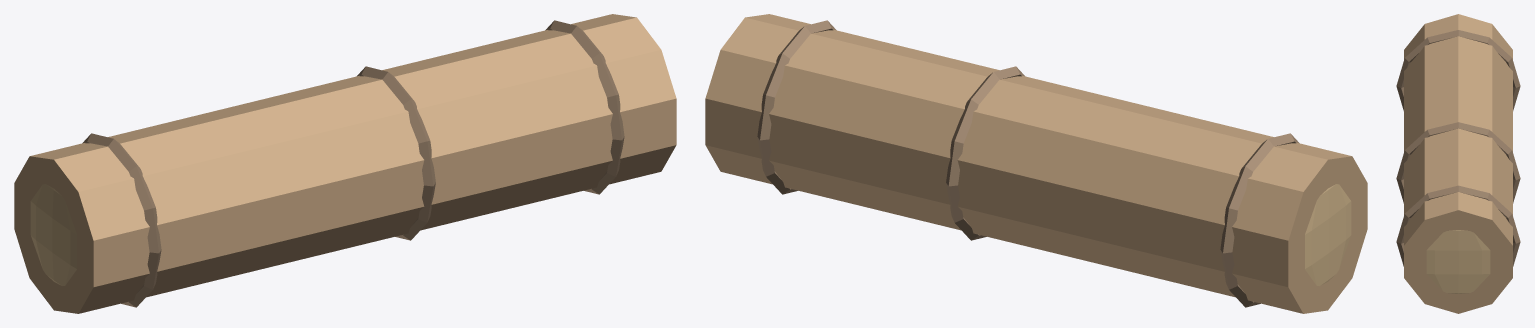
Rendered from tronco_flotante.glb.
3 renders of one model, left to right at view 1: azimuth 30°, elevation 25°; view 2: azimuth 150°, elevation 25°; view 3: azimuth 270°, elevation 25°, orthographic. The views are drawn at different scales.
Parts seen in each view (by area): view 1: tronco_flotante; view 2: tronco_flotante; view 3: tronco_flotante.
Boxes of the visible parts, x1,y1,x2,y2 form: tronco_flotante: (14,14,676,313); tronco_flotante: (705,14,1367,313); tronco_flotante: (1396,14,1520,313).
Bounding box in the file's own units: 3.42 × 0.91 × 0.91.
